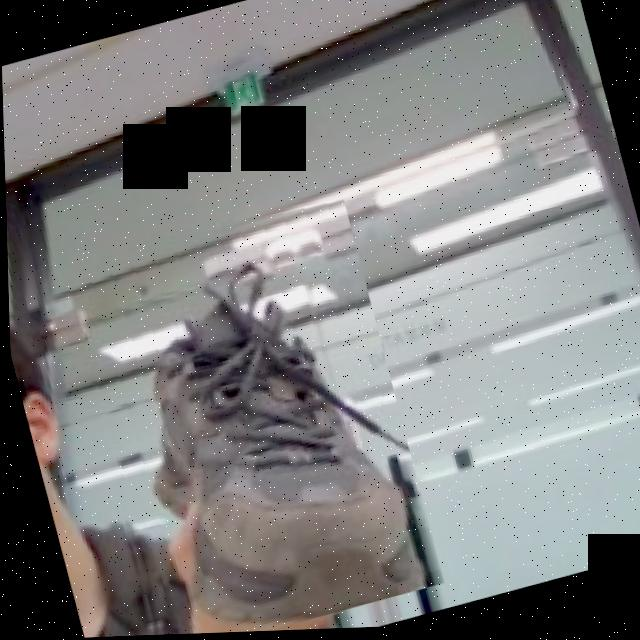shoe: (47, 186, 441, 639)
